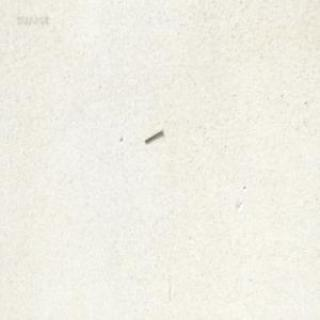Bolttrack_idkeyframe: (143, 125, 162, 142)
